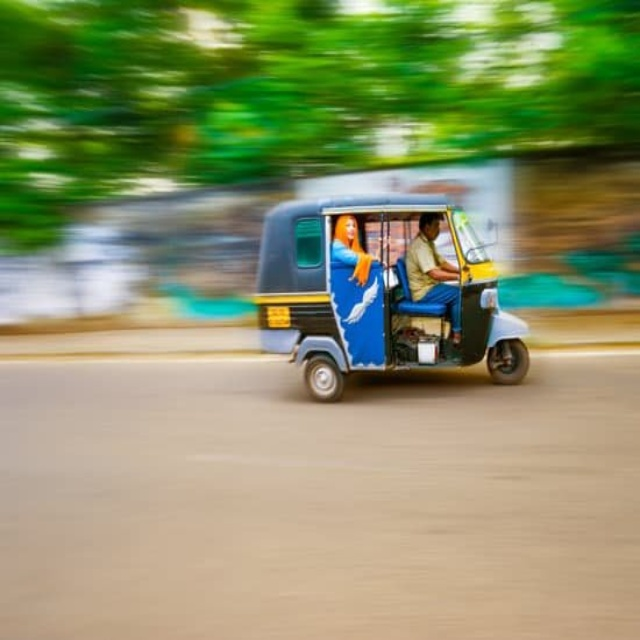Motorcycle: (251, 189, 529, 402)
